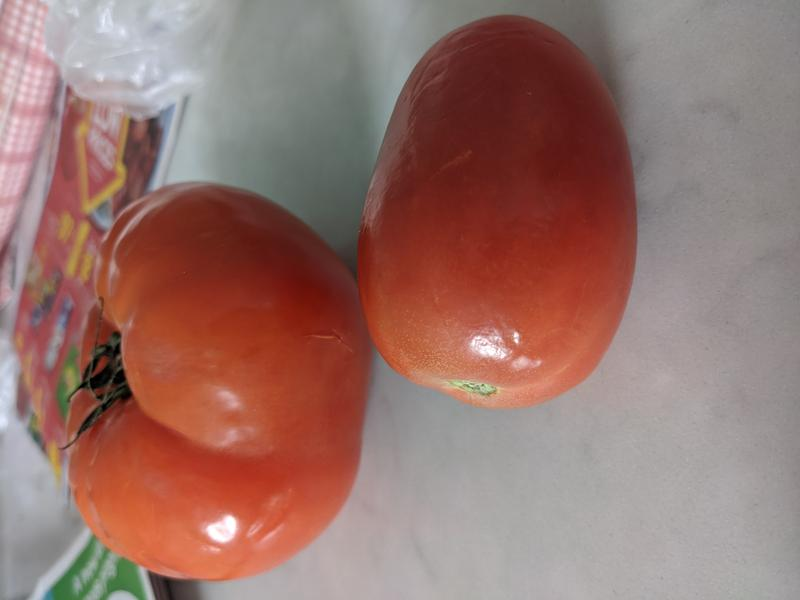tomato: (61, 179, 375, 585), (356, 13, 640, 409)
